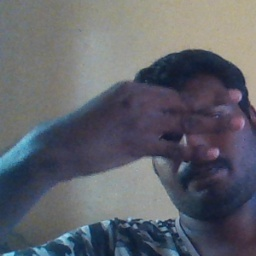K: (67, 79, 245, 167)
